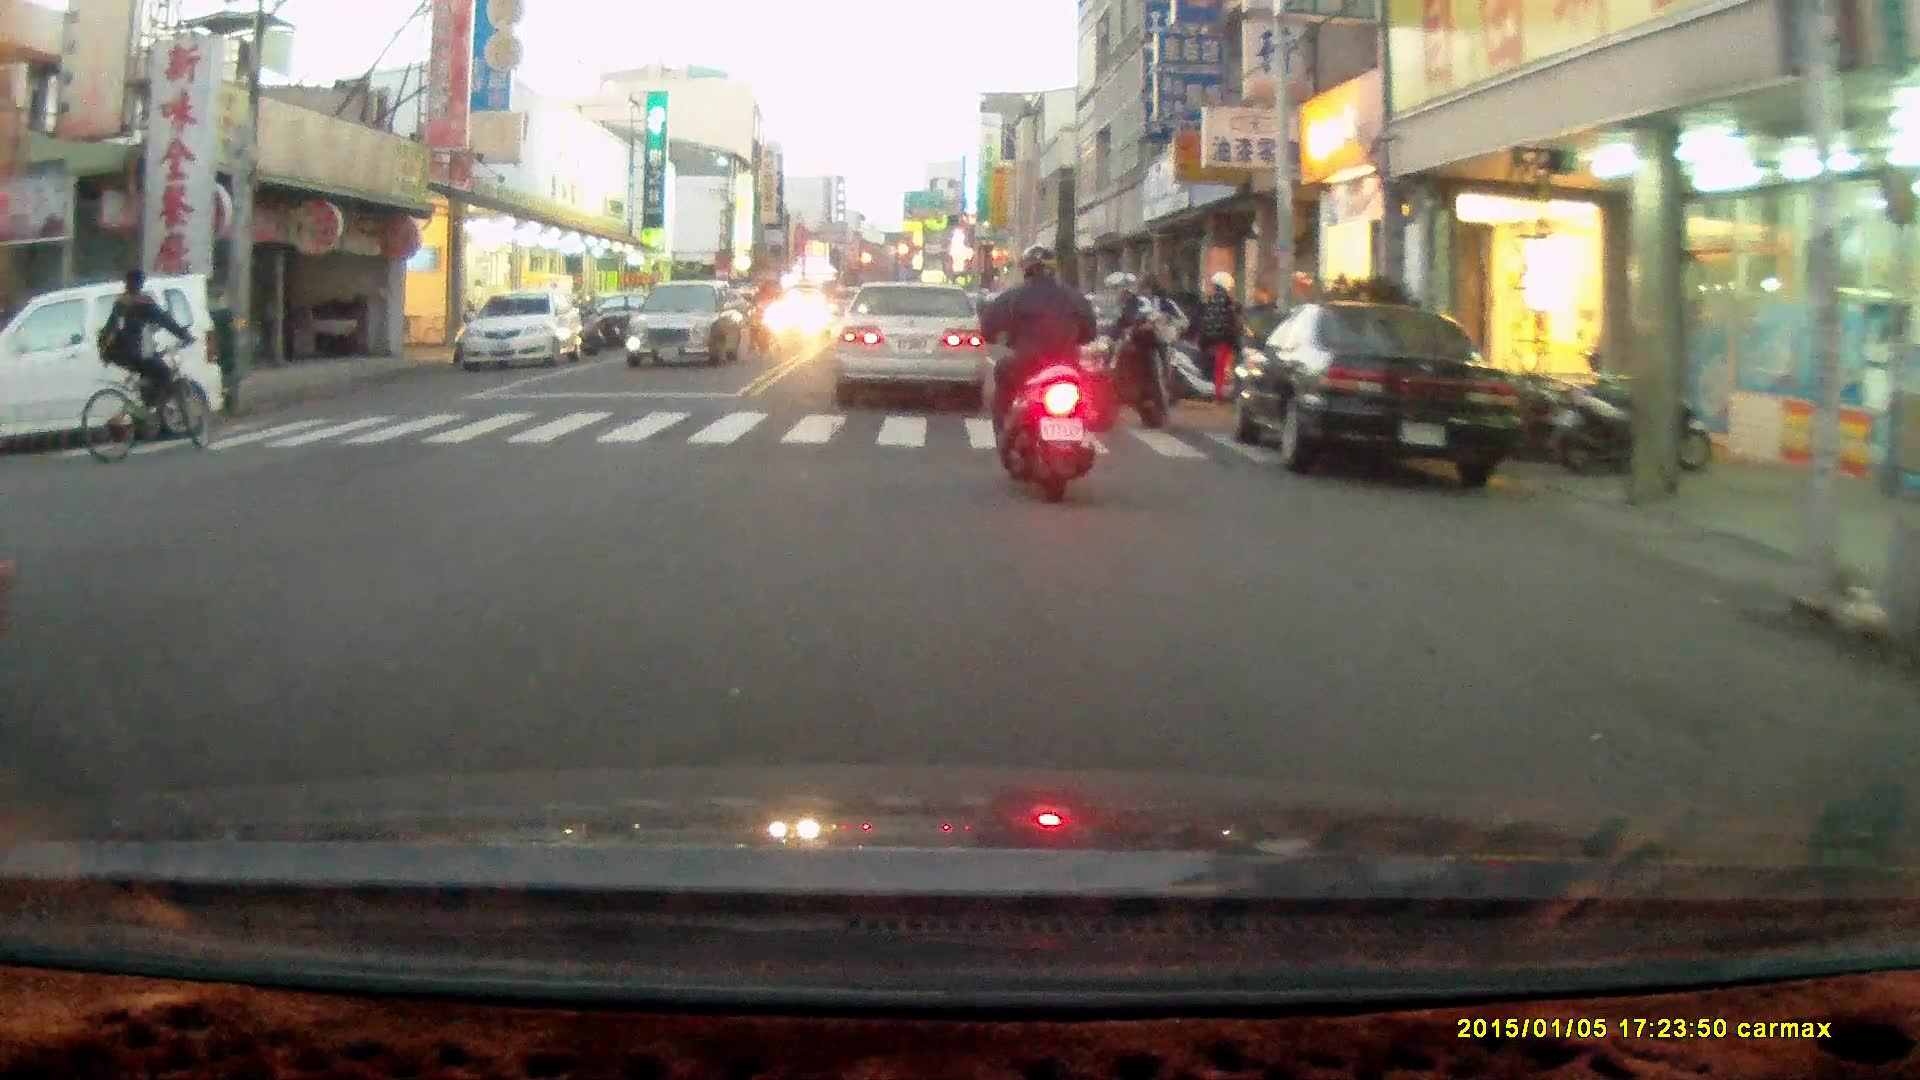pedestrian: (1203, 267, 1245, 411)
rider: (977, 239, 1101, 502), (77, 272, 208, 459), (1074, 265, 1189, 428), (744, 274, 787, 354)
vehicle: (1230, 302, 1527, 482), (1, 281, 226, 453), (844, 280, 1009, 407), (630, 279, 745, 368), (459, 292, 585, 371)
